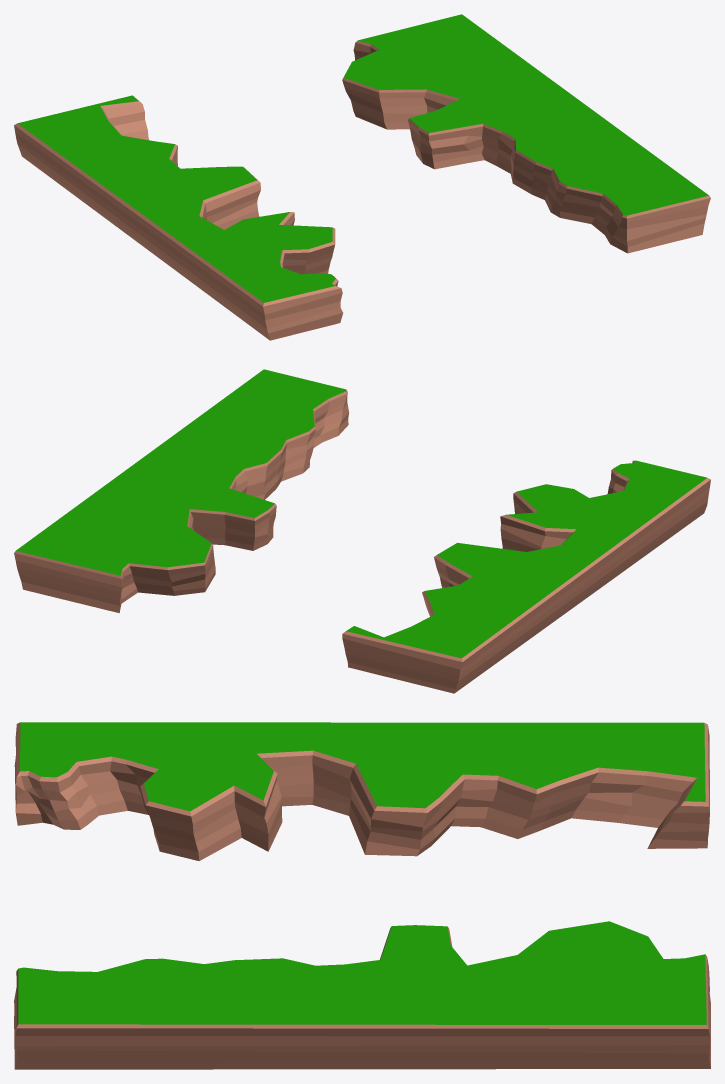
The model's file is Cliff.fbx.
3 views of the same model, one above another, from view 1: azimuth 30°, elevation 25°; view 2: azimuth 150°, elevation 25°; view 3: azimuth 270°, elevation 25° (orthographic). The views are drawn at different scales.
Visible parts, largest first — view 1: Plane; view 2: Plane; view 3: Plane.
Boxes of the visible parts, left/top/right/bottom form: Plane: left=14, top=14, right=710, bottom=340; Plane: left=14, top=369, right=710, bottom=693; Plane: left=14, top=722, right=710, bottom=1069.
Size of the model in its own units: 208 by 16.73 by 201.
